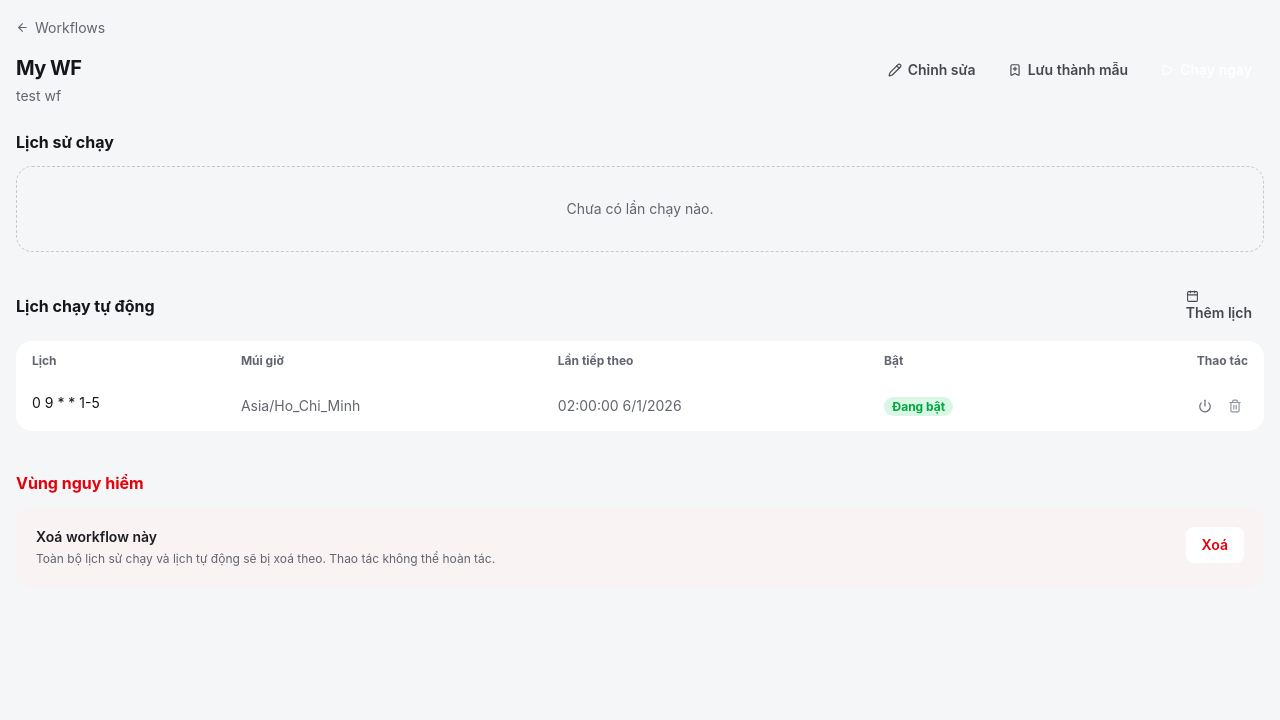
Test: WorkflowDetailClient — schedule actions › toggle success: enabled → disabled
Expected: the heading "My WF" is shown, [16,54,82,82]
Click the button named "Đã tắt": (1205, 406) [1192,392,1218,418]
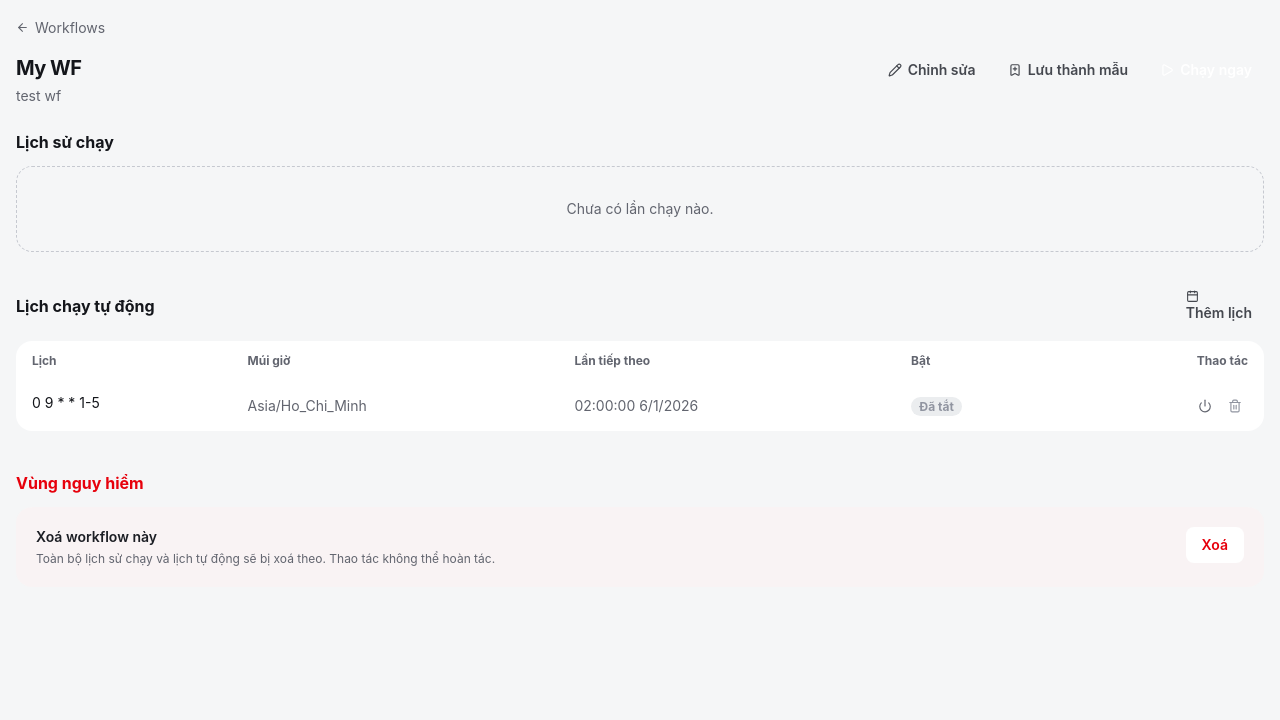
Expected: the text "Đã tắt" is shown, [911,396,962,416]
